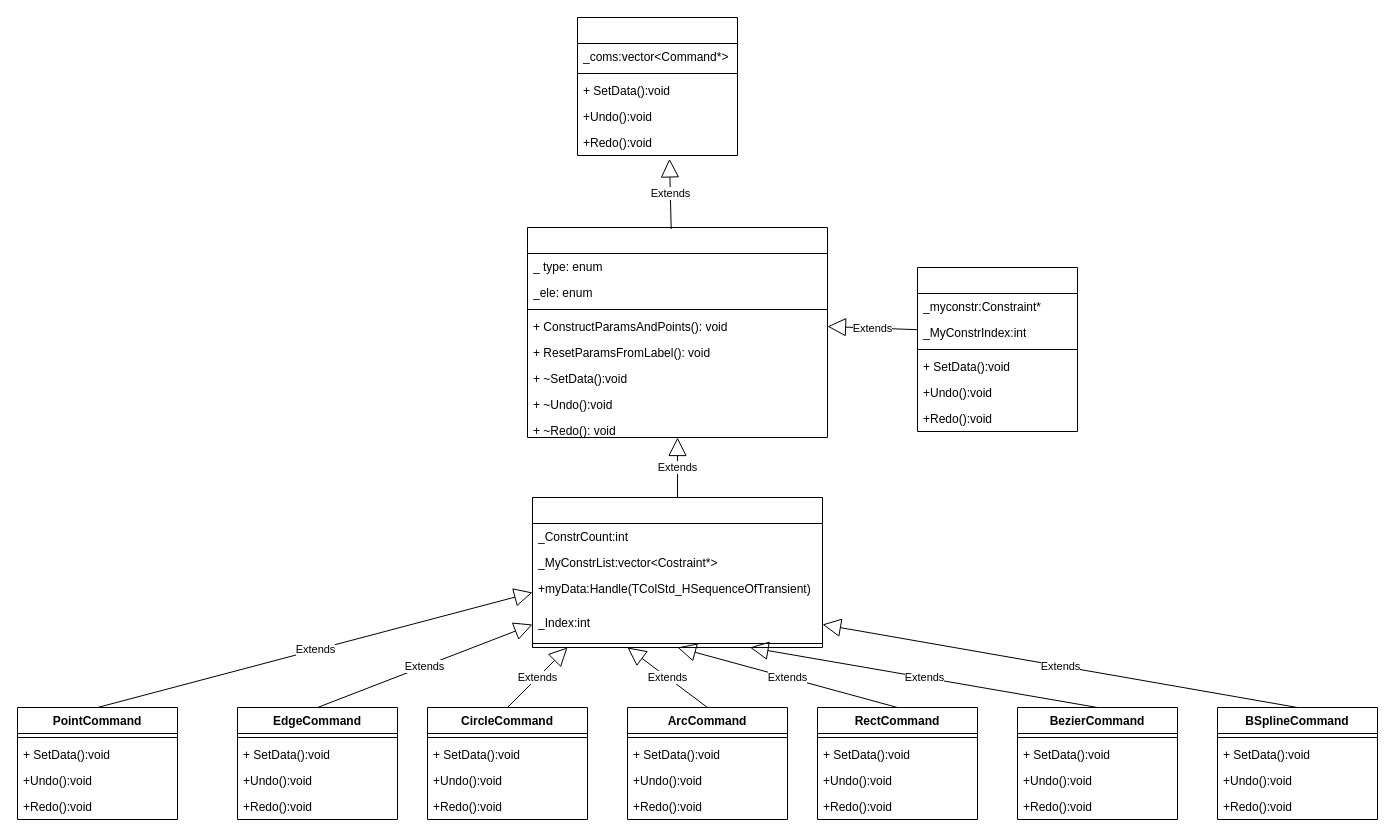
The diagram is 1395 pixels wide and 840 high, and some of its shapes have lost their labels. The box of each missing label's shape, as (x1, y1, x2, y2) in pixels:
Command: (526, 226, 828, 438)
Commands: (576, 16, 738, 156)
ConstrCommand: (916, 266, 1078, 432)
ElementCommand: (532, 496, 822, 648)
